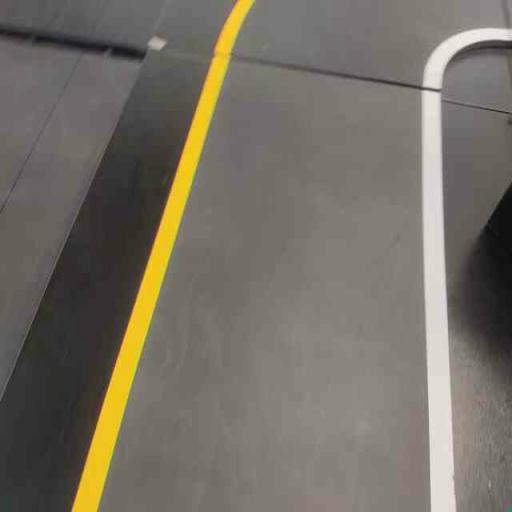straight: (73, 54, 472, 511)
